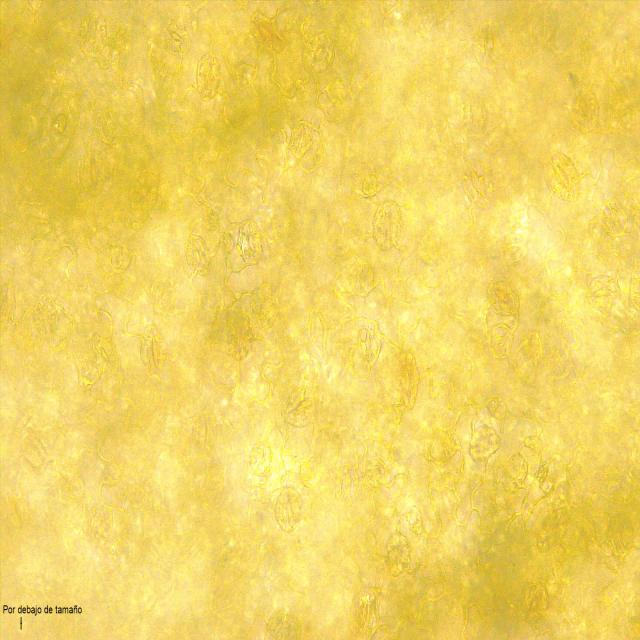Stomata: (543, 152, 581, 204), (370, 197, 402, 251), (566, 86, 600, 136), (234, 219, 266, 268), (302, 30, 336, 76), (274, 485, 305, 534), (472, 19, 503, 68), (138, 327, 169, 375), (588, 273, 622, 316), (486, 277, 520, 318), (356, 321, 382, 368), (160, 20, 191, 57)
